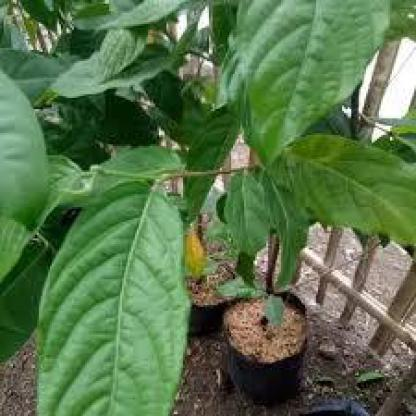Melati: (67, 60, 382, 384)
